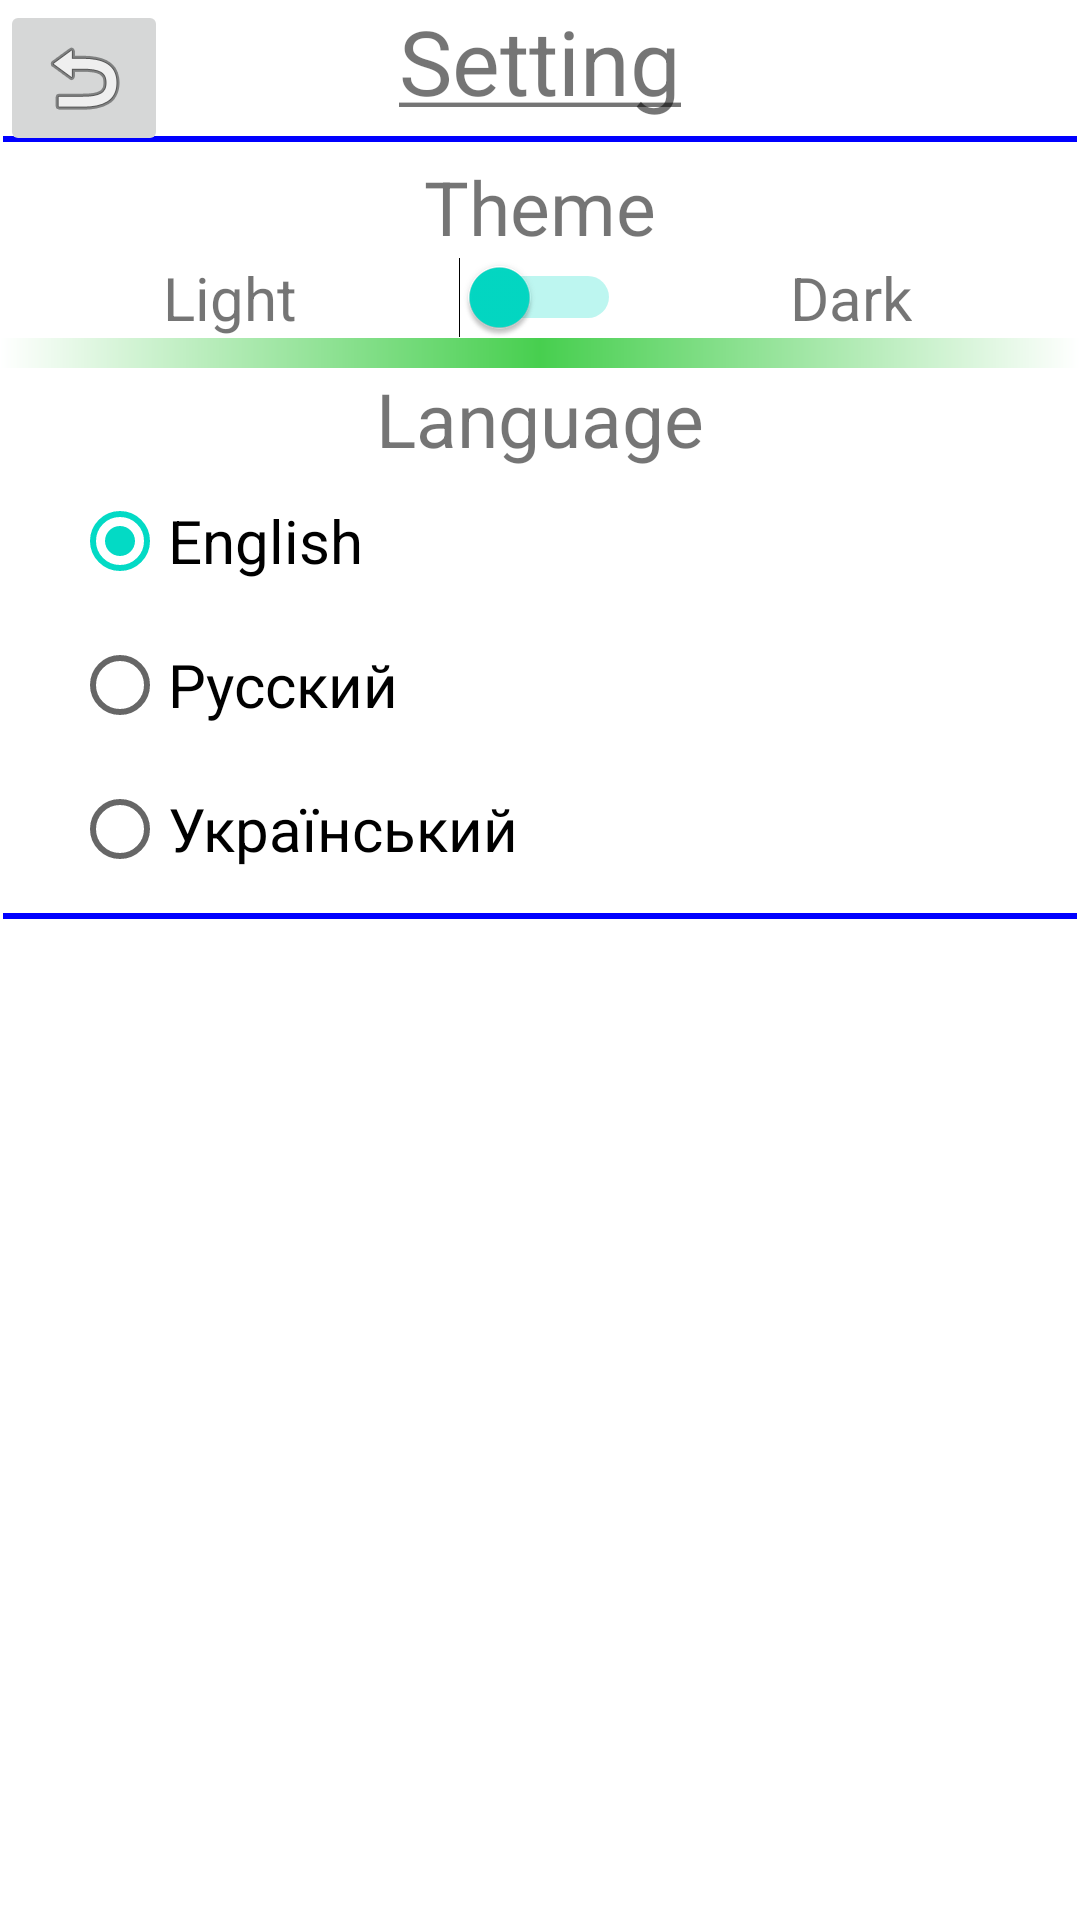

Screen size 1080px×1920px. Icon name, then its box in pixels as rect(x1, y1, x2, y2):
revert: rect(3, 18, 168, 142)
